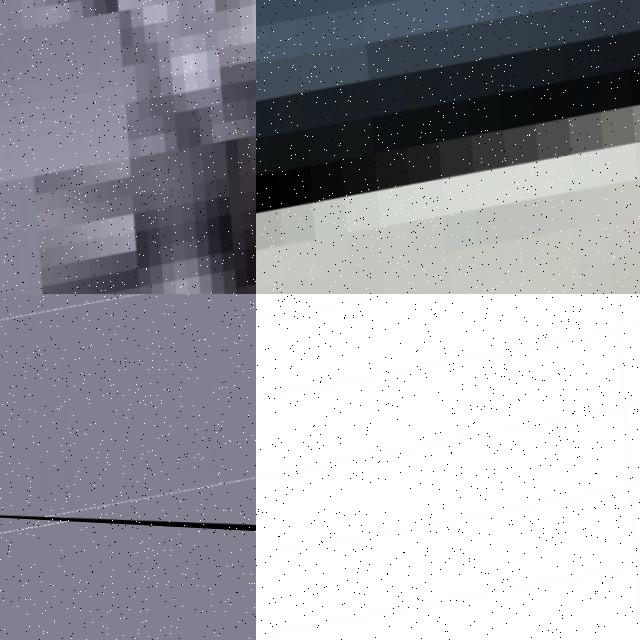0: (0, 0, 256, 294), (0, 294, 256, 545)
drone: (256, 294, 640, 640), (256, 0, 640, 294)
